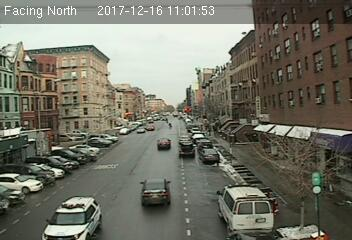car: (139, 176, 173, 208), (199, 148, 220, 162), (180, 143, 196, 158), (157, 136, 170, 148)
police: (216, 182, 275, 235), (40, 195, 107, 240)
